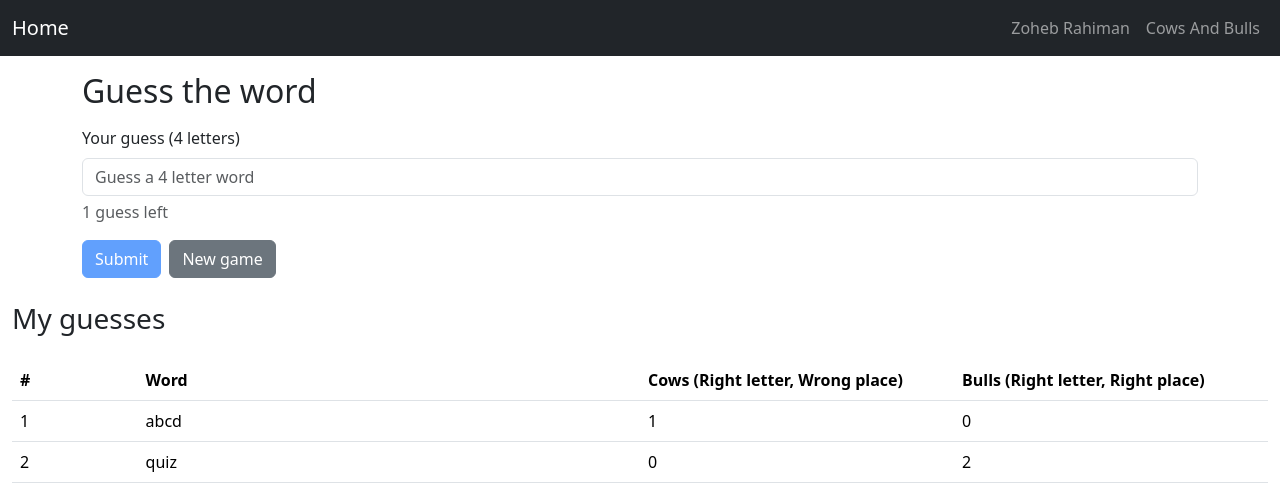
Test: running out of guesses › switches to the loss screen when the last guess misses
The image size is (1280, 500).
Type "gold" into the field labelled "Your guess (4 letters)" at (640, 177), box x1=82 y1=158 x2=1198 y2=196
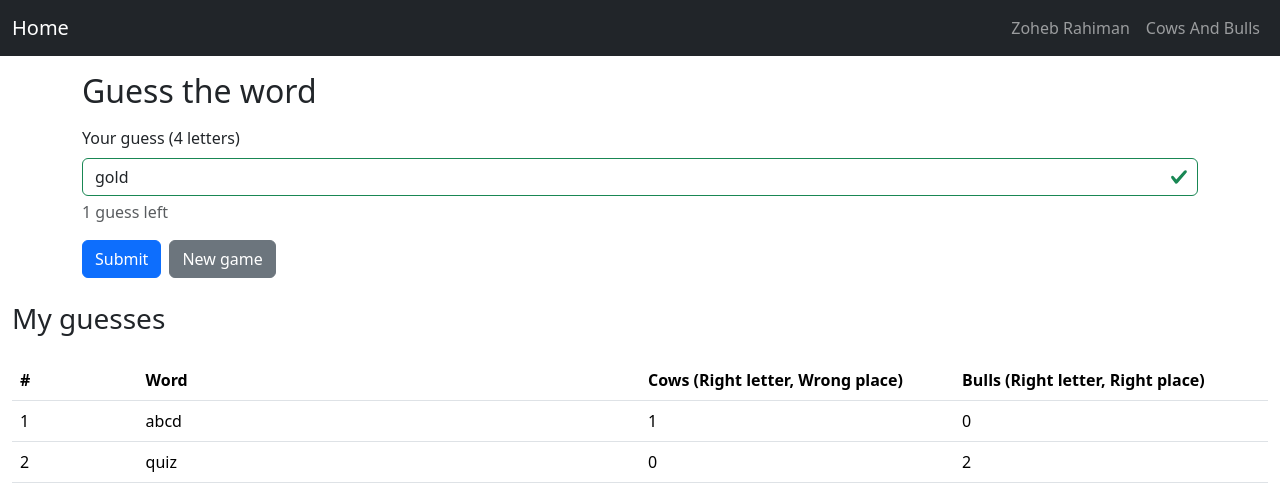
Click the button "Submit" at (122, 259), box x1=82 y1=240 x2=161 y2=278
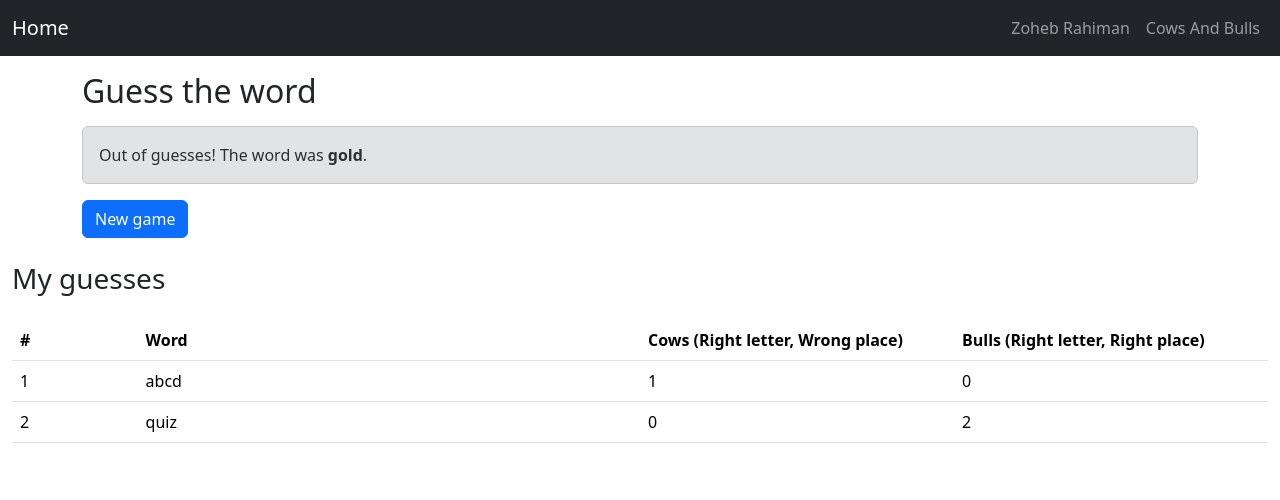
Expected: the text "Out of guesses! The word was gold." is shown, x1=82 y1=126 x2=1198 y2=184
